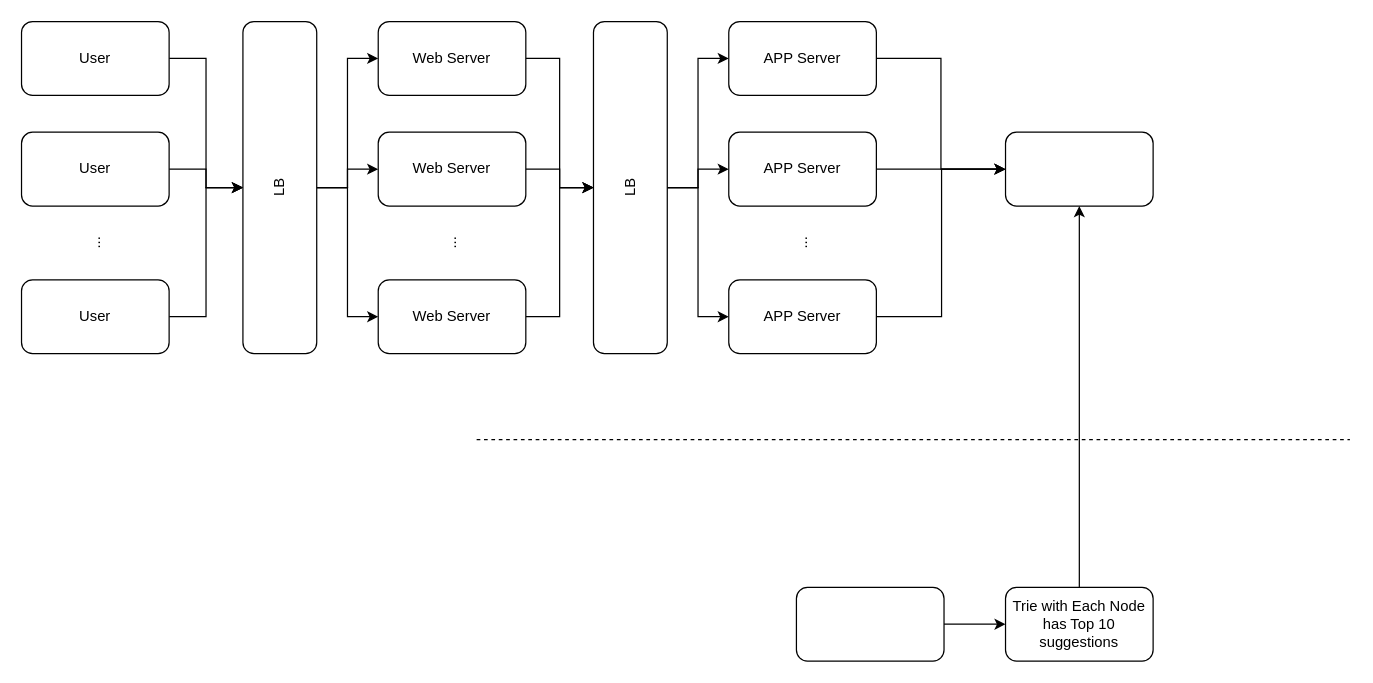
The diagram is 1373 pixels wide and 683 high, and some of its shapes have lost their labels. Here are the shapes that lost their labels. From the top down, the centre of each, then its label:
pixel 1078 168: Cache
pixel 869 623: Query Log MapReduce
